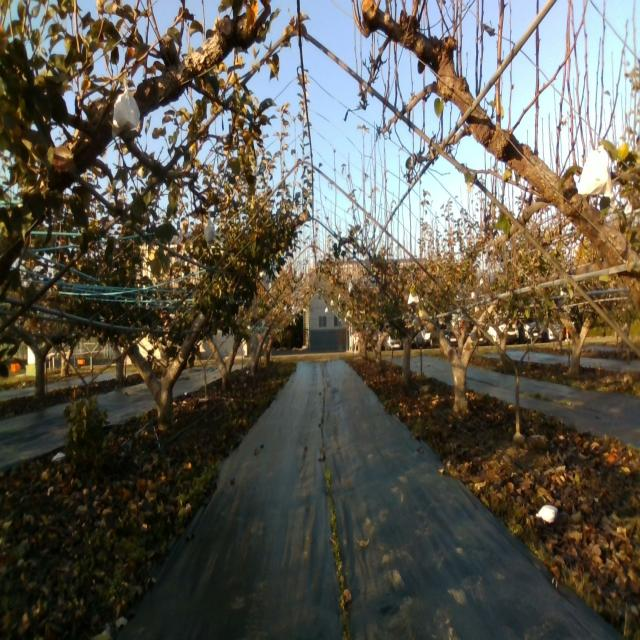pearbags: (578, 145, 613, 199), (112, 78, 142, 139), (204, 213, 215, 248)
